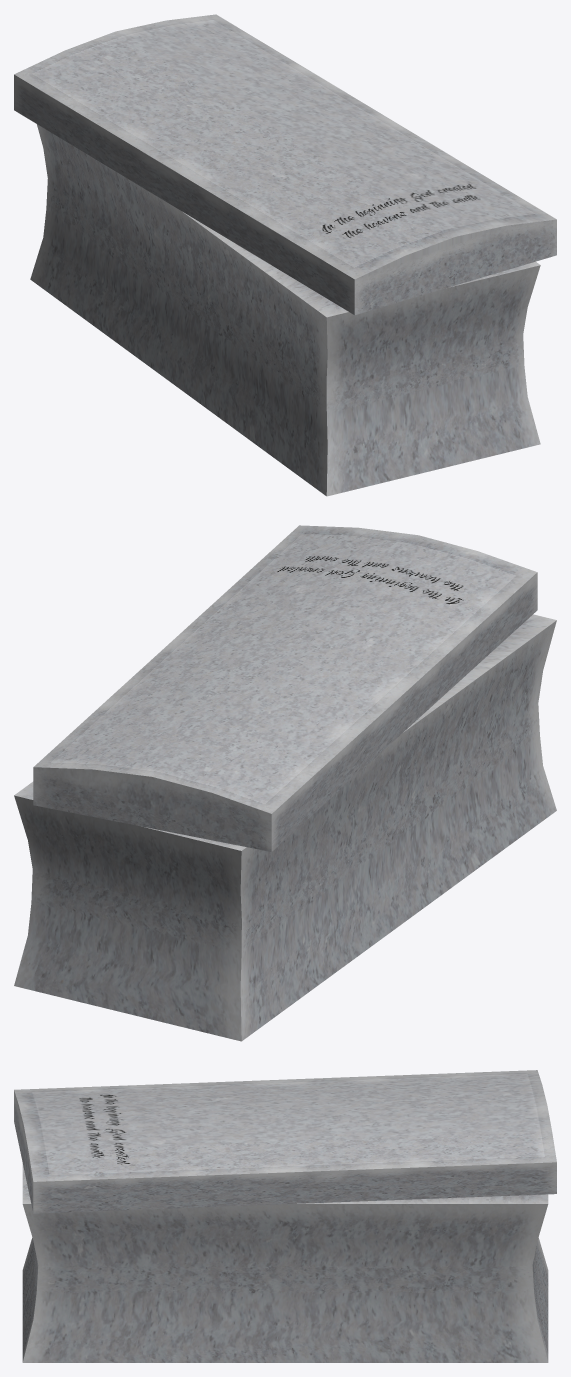
The model's file is coffin.fbx.
The picture shows the model from 3 angles, top to bottom: view 1: azimuth 30°, elevation 25°; view 2: azimuth 150°, elevation 25°; view 3: azimuth 270°, elevation 25°; orthographic projection. The views are drawn at different scales.
Visible parts, largest first — view 1: pCube4, pCube5; view 2: pCube4, pCube5; view 3: pCube4, pCube5.
Boxes of the visible parts, x1,y1,x2,y2 form: pCube4: [30, 124, 540, 496]; pCube5: [14, 14, 556, 315]; pCube4: [14, 614, 556, 1041]; pCube5: [33, 525, 537, 851]; pCube4: [22, 1164, 548, 1362]; pCube5: [14, 1070, 556, 1213].
Size of the model in its own units: 3.02 by 2.54 by 6.2.
